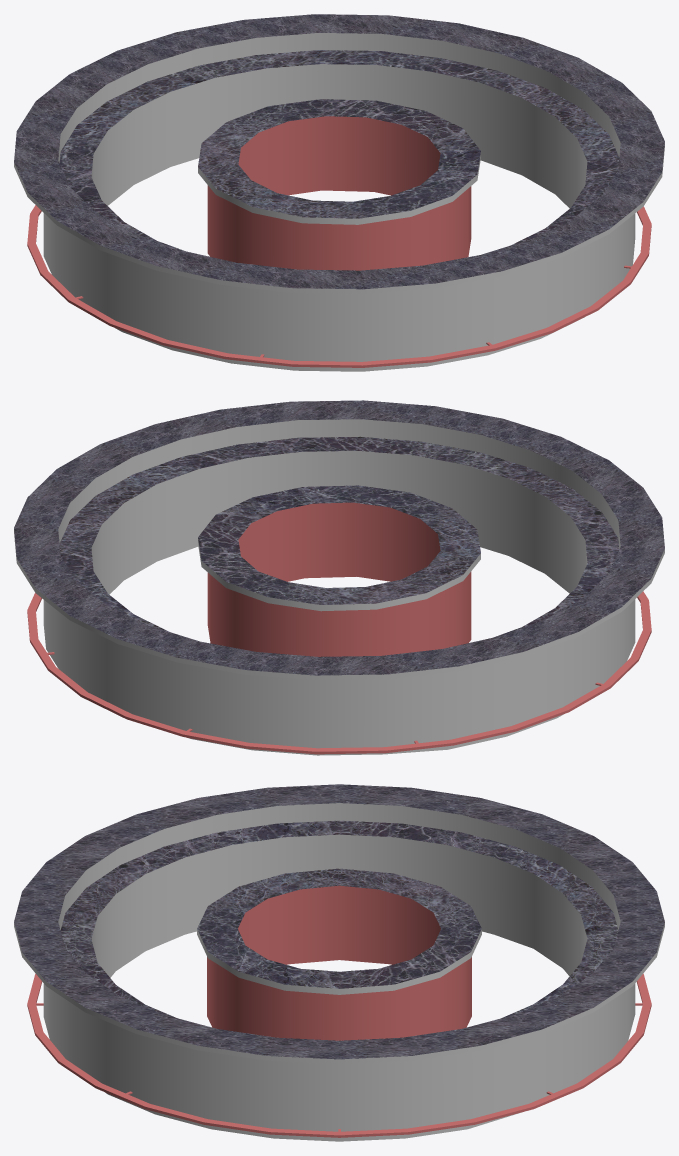
Rendered from Prob_Bar_V2.fbx.
The picture shows the model from 3 angles, top to bottom: view 1: azimuth 30°, elevation 25°; view 2: azimuth 150°, elevation 25°; view 3: azimuth 270°, elevation 25°; orthographic projection.
Visible parts, largest first — view 1: Prop_Bar_V2; view 2: Prop_Bar_V2; view 3: Prop_Bar_V2.
Boxes of the visible parts, x1,y1,x2,y2 form: Prop_Bar_V2: [14, 14, 664, 371]; Prop_Bar_V2: [14, 400, 664, 755]; Prop_Bar_V2: [14, 784, 664, 1141].
Bounding box in the file's own units: 660 × 106 × 660.
